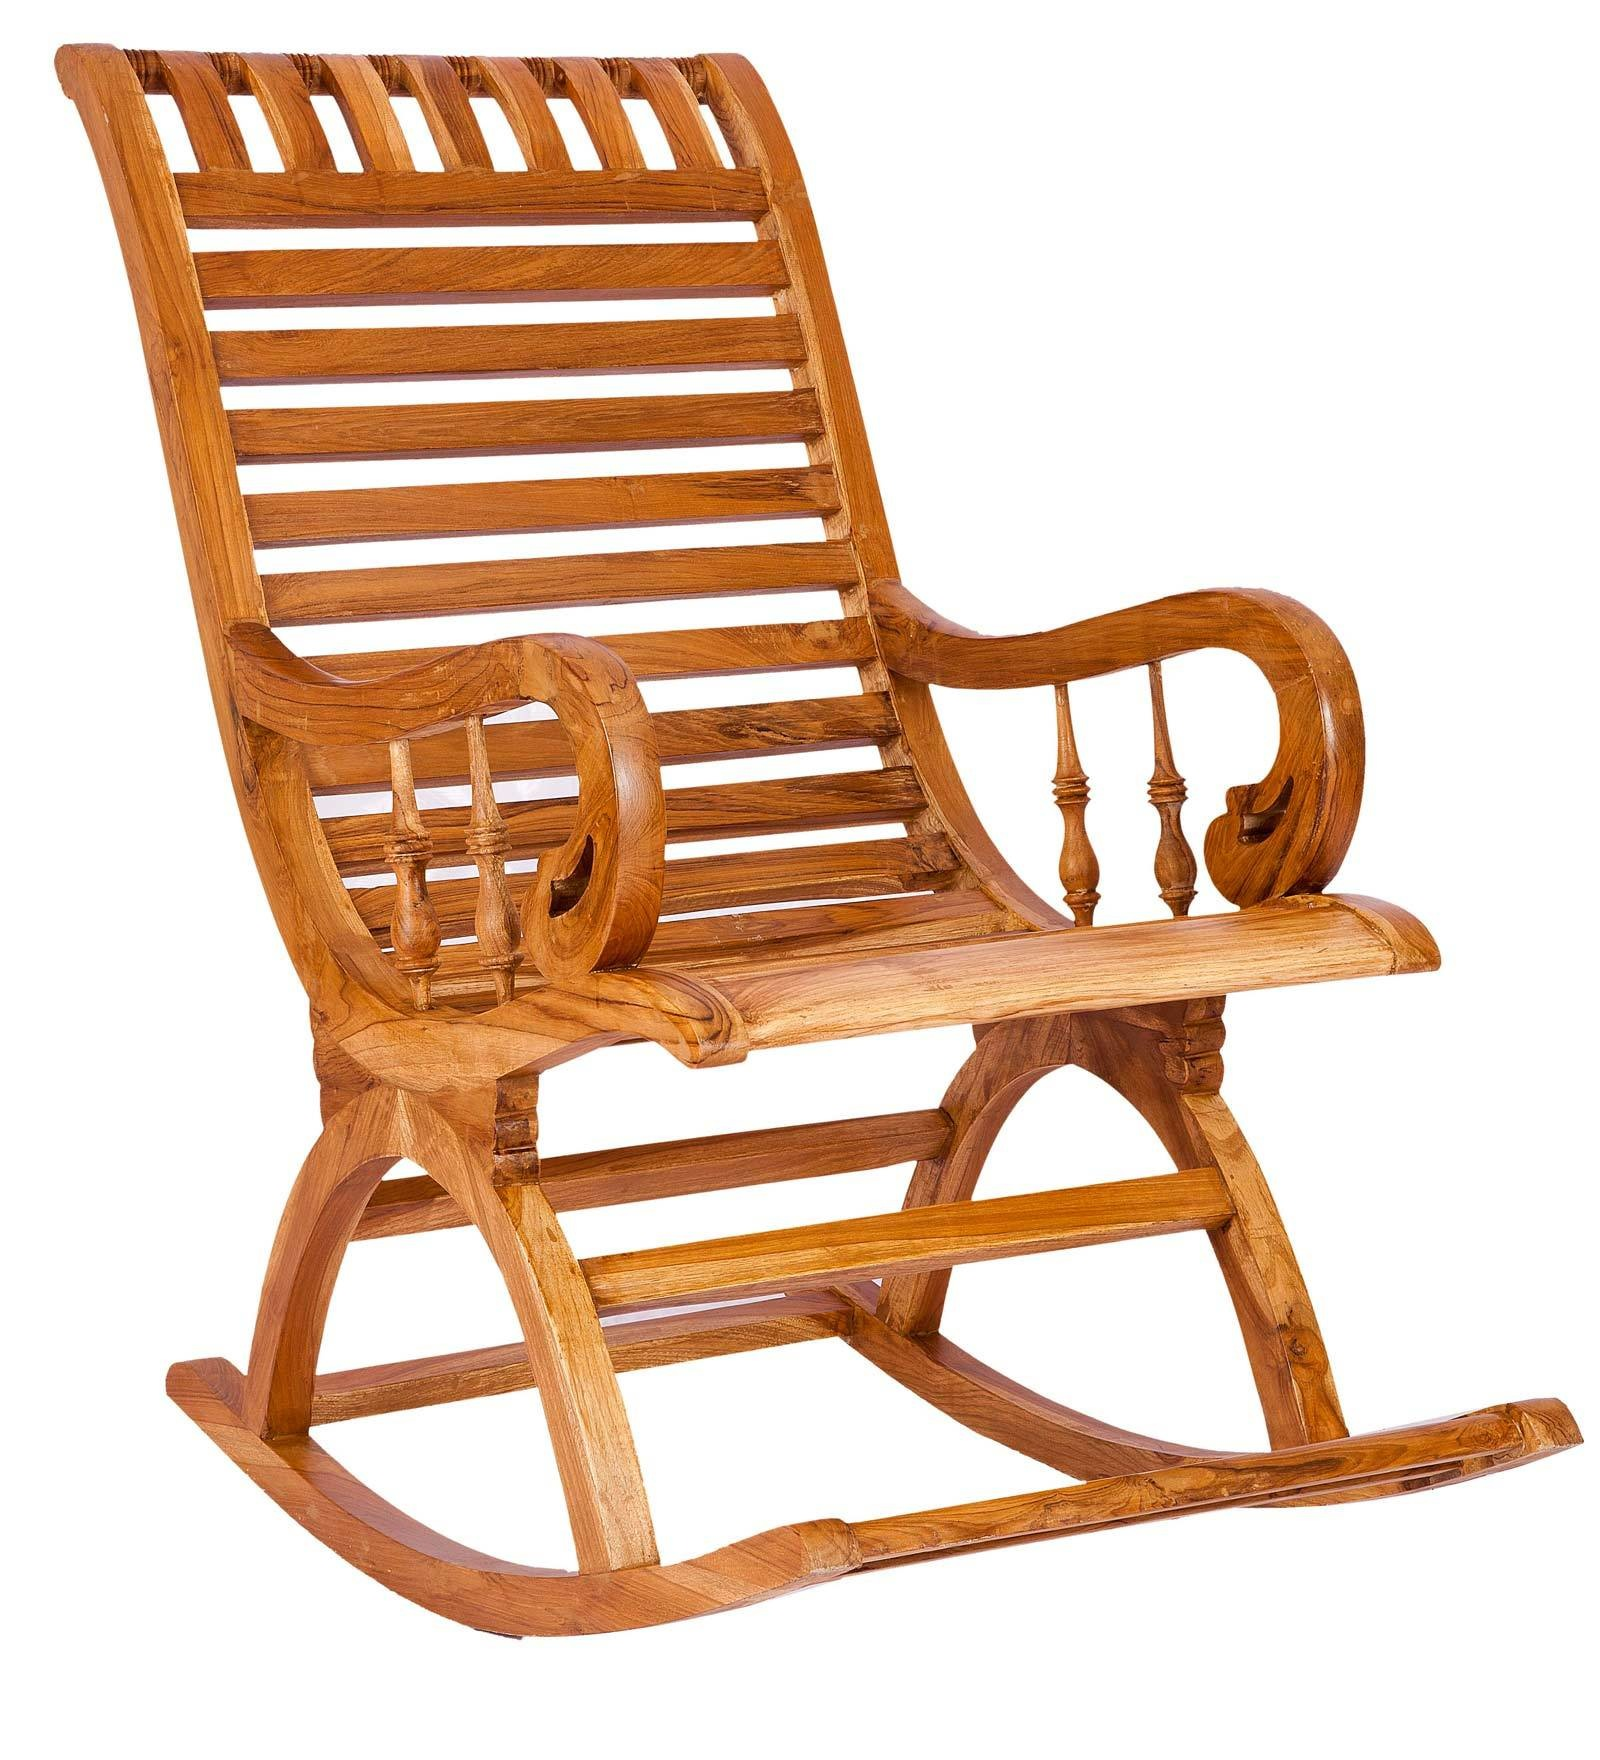Teak Wood Rocking Chair in Light Teak Finish by Karigar: (32, 21, 1592, 1706)
